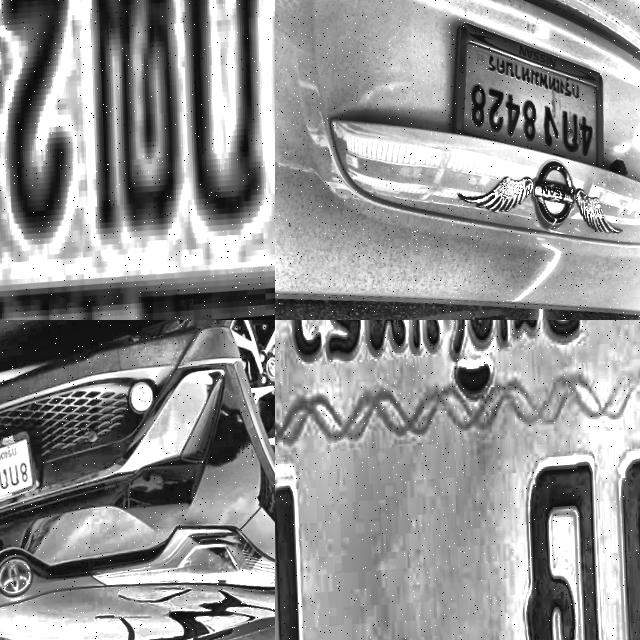license-plate: (275, 320, 640, 640), (0, 0, 275, 320), (451, 21, 604, 189), (0, 426, 35, 515)
